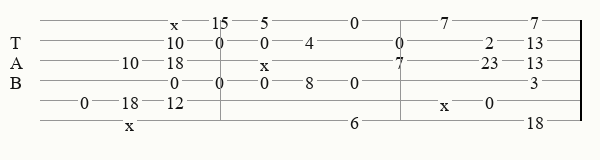0: (80, 92, 93, 108), (170, 72, 183, 88), (215, 72, 228, 88), (215, 32, 228, 48), (260, 72, 273, 88), (260, 32, 273, 48), (350, 12, 363, 28), (350, 72, 363, 88), (395, 32, 408, 48), (485, 92, 498, 108)
10: (121, 52, 143, 68), (166, 32, 188, 48)
12: (166, 92, 188, 108)
13: (526, 52, 548, 68), (526, 32, 548, 48)
15: (211, 12, 233, 28)
18: (121, 92, 143, 108), (166, 52, 188, 68), (526, 112, 548, 128)
2: (485, 32, 498, 48)
23: (481, 52, 503, 68)
3: (530, 72, 543, 88)
4: (305, 32, 318, 48)
5: (260, 12, 273, 28)
6: (350, 112, 363, 128)
7: (395, 52, 408, 68), (440, 12, 453, 28), (530, 12, 543, 28)
8: (305, 72, 318, 88)
x: (125, 114, 138, 126), (170, 14, 183, 26), (260, 54, 273, 66), (440, 94, 453, 106)
